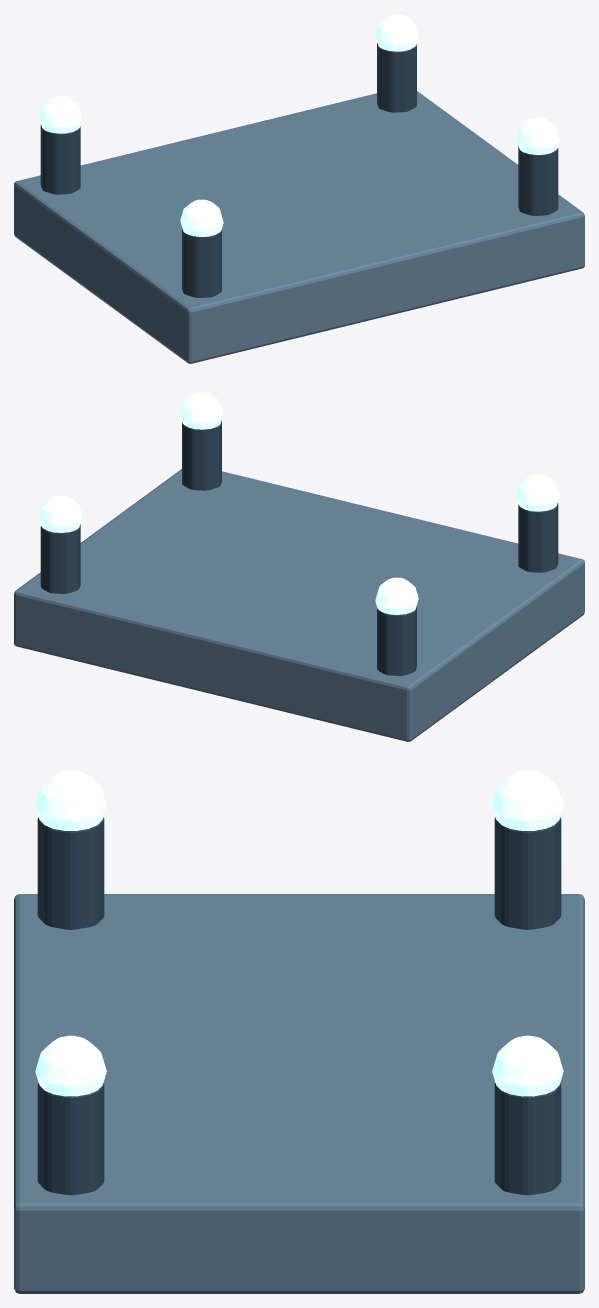
File: SM_Rheinufer_Ponton.fbx
3 views of the same model, one above another, from view 1: azimuth 30°, elevation 25°; view 2: azimuth 150°, elevation 25°; view 3: azimuth 270°, elevation 25° (orthographic). The views are drawn at different scales.
Visible parts, largest first — view 1: SM_Rheinufer_Ponton; view 2: SM_Rheinufer_Ponton; view 3: SM_Rheinufer_Ponton.
Boxes of the visible parts, x1=… form: SM_Rheinufer_Ponton: x1=14, y1=14, x2=584, y2=363; SM_Rheinufer_Ponton: x1=14, y1=392, x2=584, y2=741; SM_Rheinufer_Ponton: x1=14, y1=770, x2=584, y2=1293.
Size of the model in its own units: 2.6 by 0.905 by 2.
